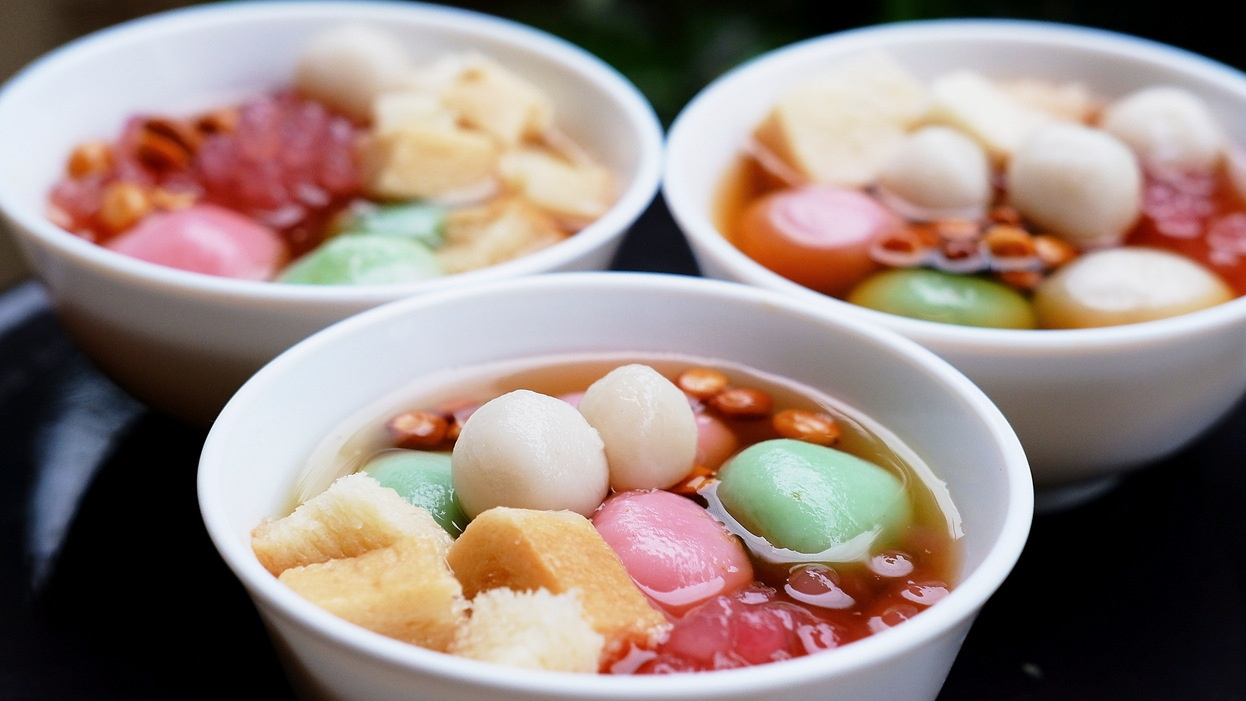ronde: (313, 355, 939, 672)
